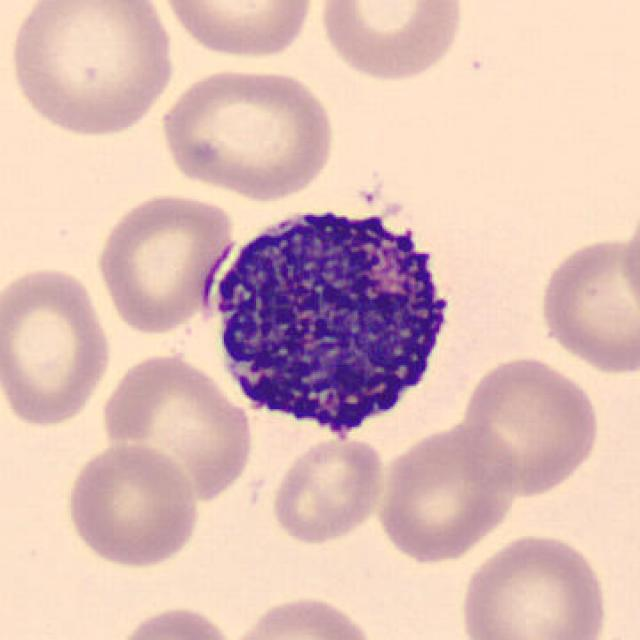Basophil: (201, 187, 467, 449)
RBC: (153, 61, 339, 202), (98, 349, 258, 504), (4, 0, 178, 141), (455, 353, 603, 499), (372, 420, 522, 564), (93, 188, 235, 336), (0, 261, 116, 430), (61, 439, 202, 571), (455, 529, 612, 640), (534, 228, 638, 378), (266, 434, 388, 546), (314, 0, 468, 85), (155, 0, 318, 62), (225, 590, 378, 640), (110, 603, 238, 640), (617, 192, 640, 328)
